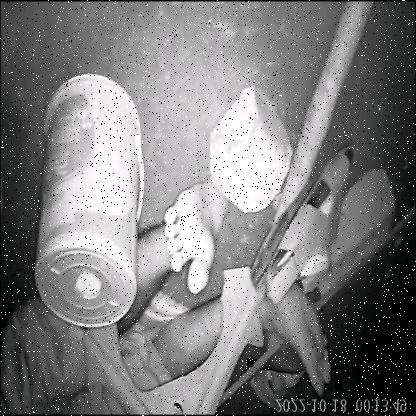leg: (138, 169, 228, 311), (261, 277, 343, 401)
